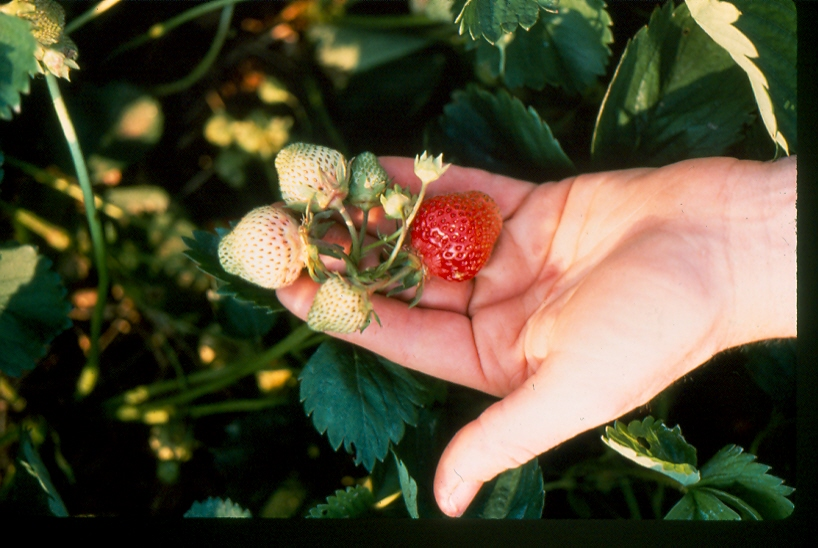ripe_strawberry: (405, 189, 508, 286)
unripe_strawberry: (216, 203, 315, 292), (273, 140, 351, 215), (306, 278, 375, 335), (341, 149, 394, 214), (1, 1, 67, 47)
